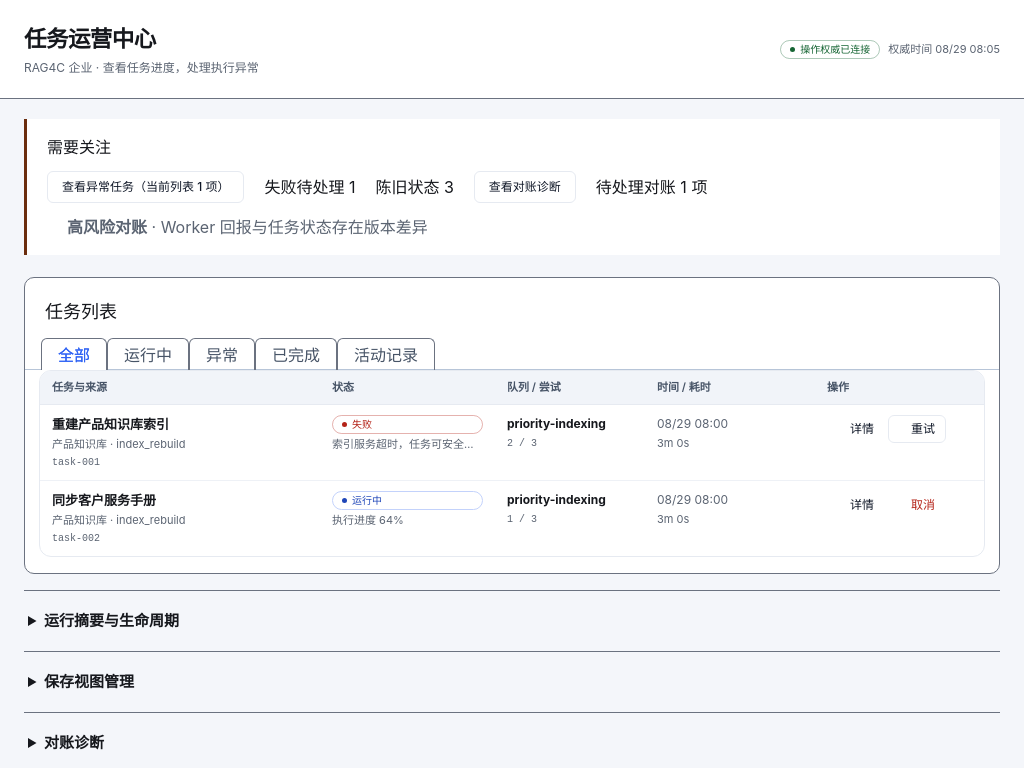
Test case: Stage 24 TaskOperationsCenter › expands the attention board and SOURCE-to-OUTCOME rail on demand
Expected: the heading "任务运营中心" is shown, 24,25 -> 156,52
Expected: the text "RAG4C 企业" is shown, 24,60 -> 92,75
Click the heading "运行摘要与生命周期" at (111,620), box 44,610 -> 179,630
(page scrolled)
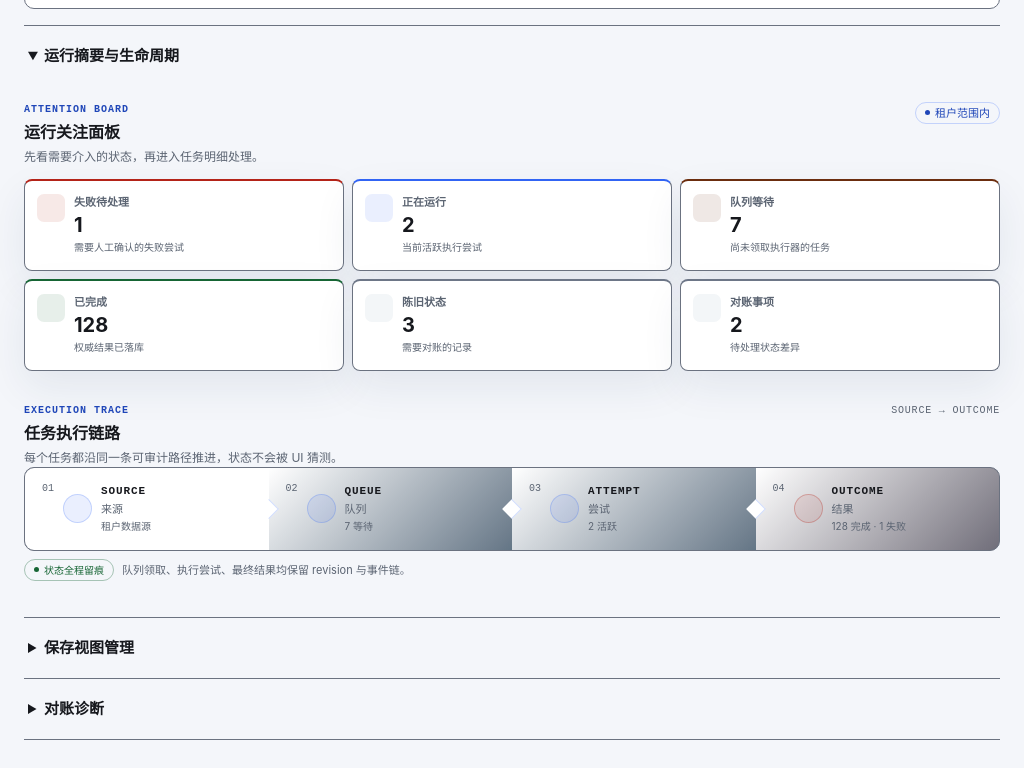
Result: the element named "任务运营关注面板" is shown at 24,86 -> 1000,386
Result: the text "失败待处理" is shown at 74,194 -> 129,208
Result: the text "状态全程留痕" is shown at 24,558 -> 114,580
